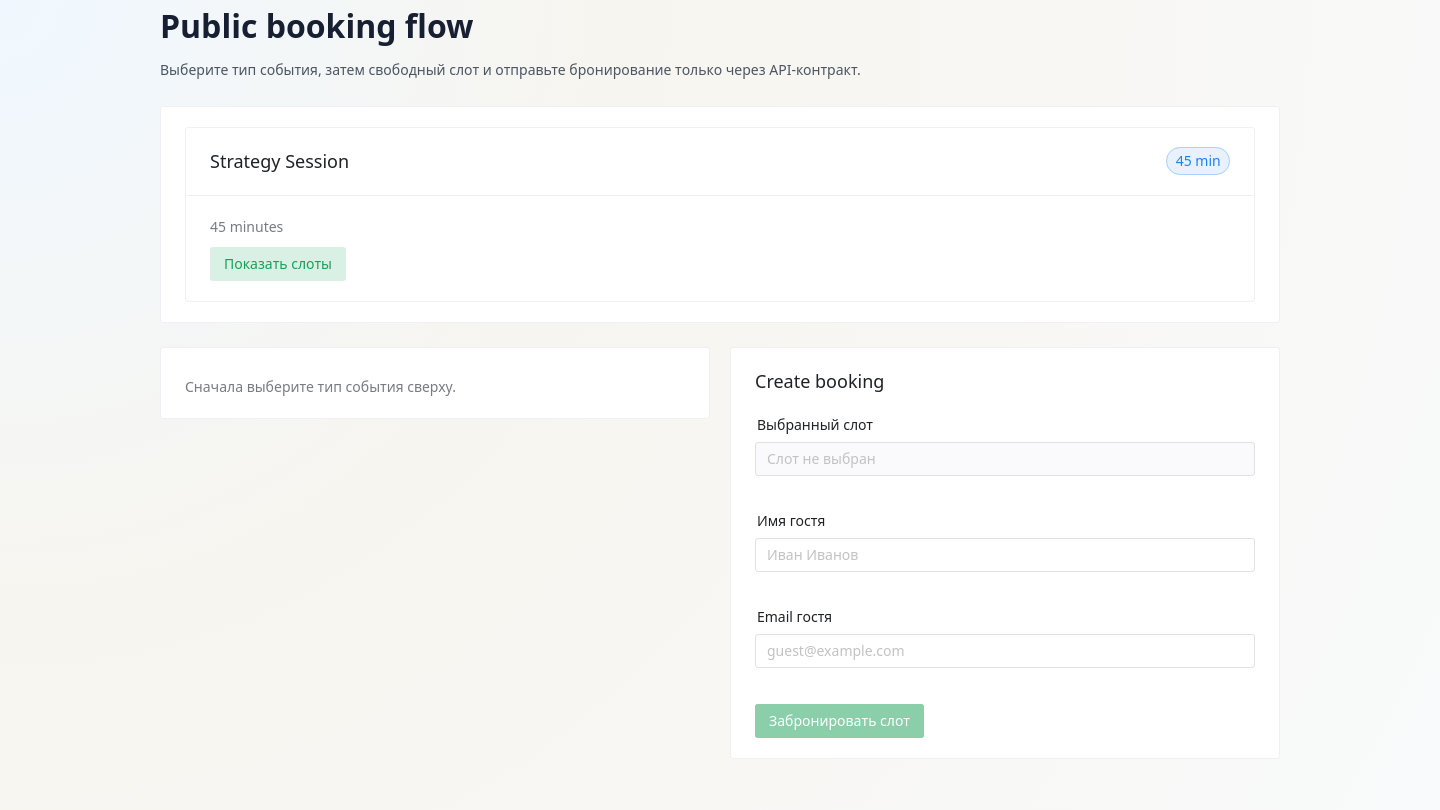
Test case: BookingPage › renders event types and completes happy path booking flow
Click the button "Показать слоты" at (278, 264), box 210,247 -> 346,281
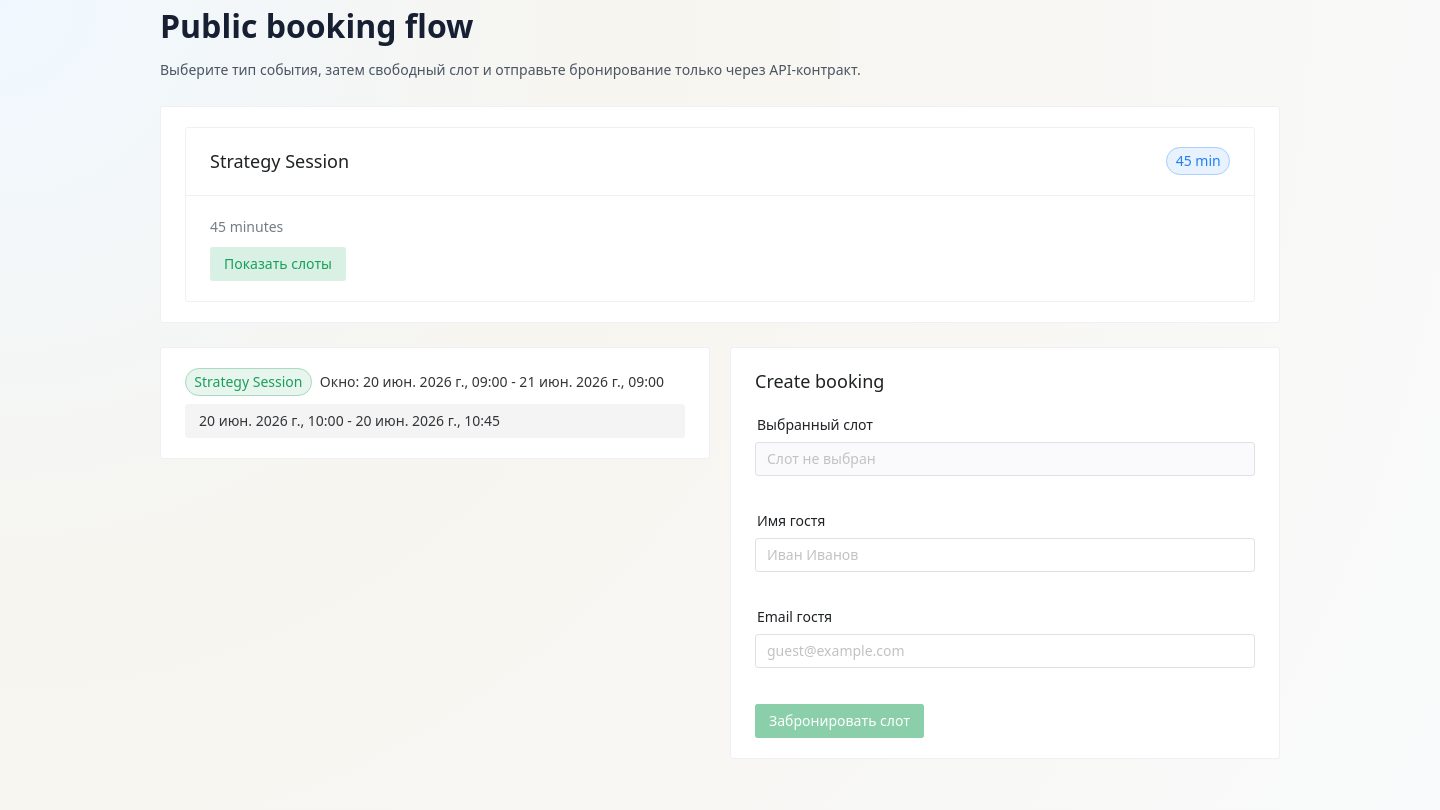
Expected: the button "20 июн. 2026 г., 10:00 - 20 июн. 2026 г., 10:45" is shown
Click the button "20 июн. 2026 г., 10:00 - 20 июн. 2026 г., 10:45" at (435, 421), box 185,404 -> 685,438
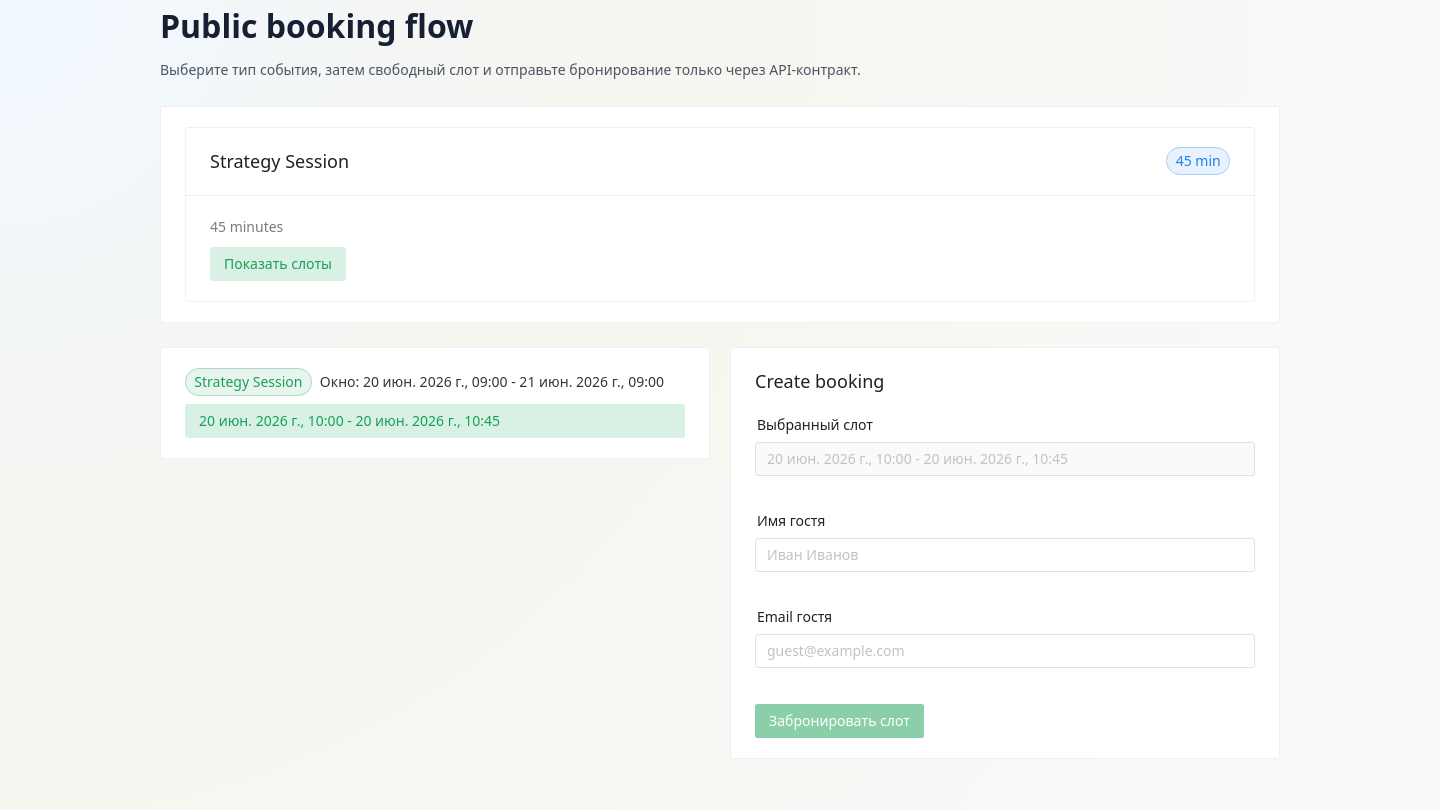
Type "Иван" into the field with placeholder "Иван Иванов" at (1005, 555), box 767,538 -> 1243,572
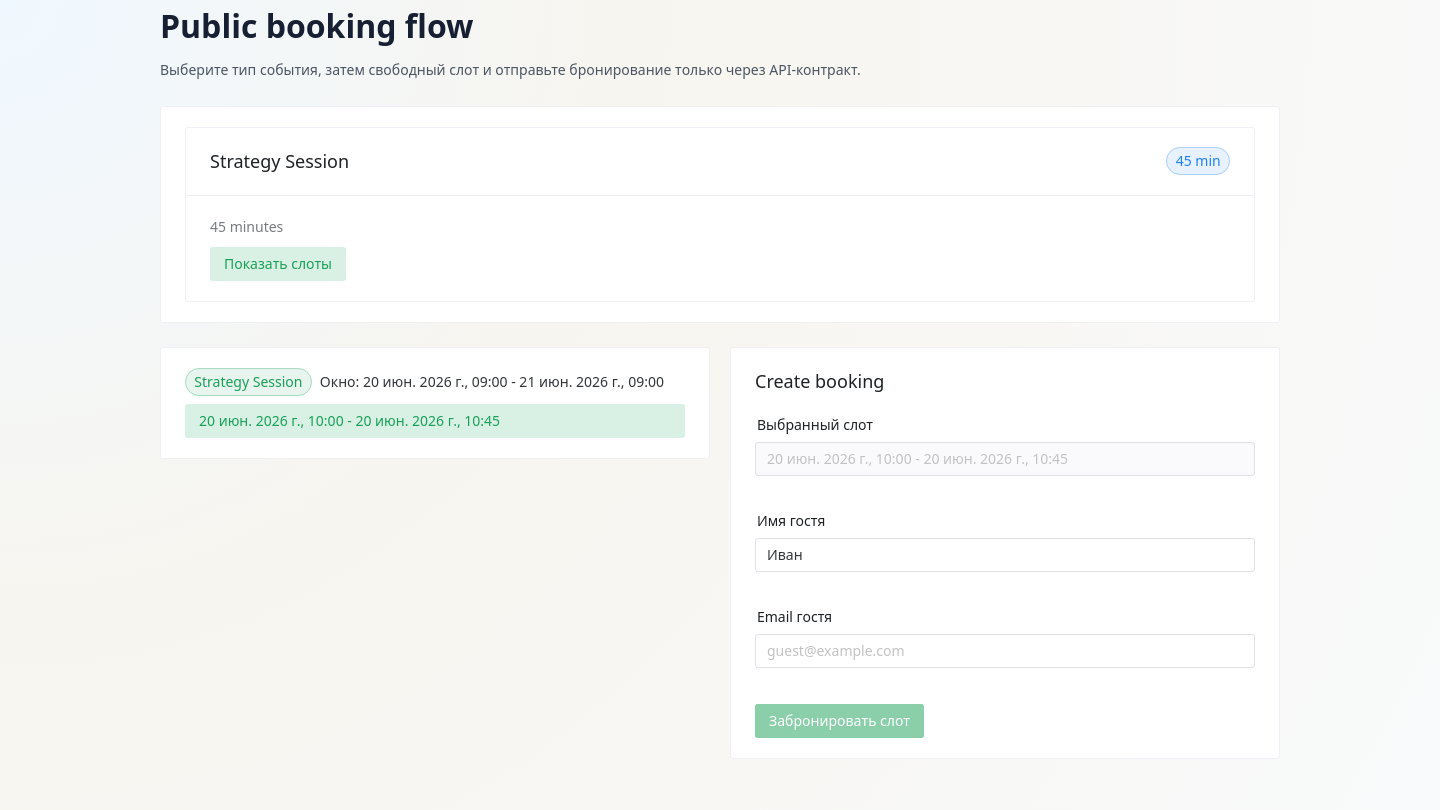
Type "ivan@example.com" into the field with placeholder "guest@example.com" at (1005, 651), box 767,634 -> 1243,668
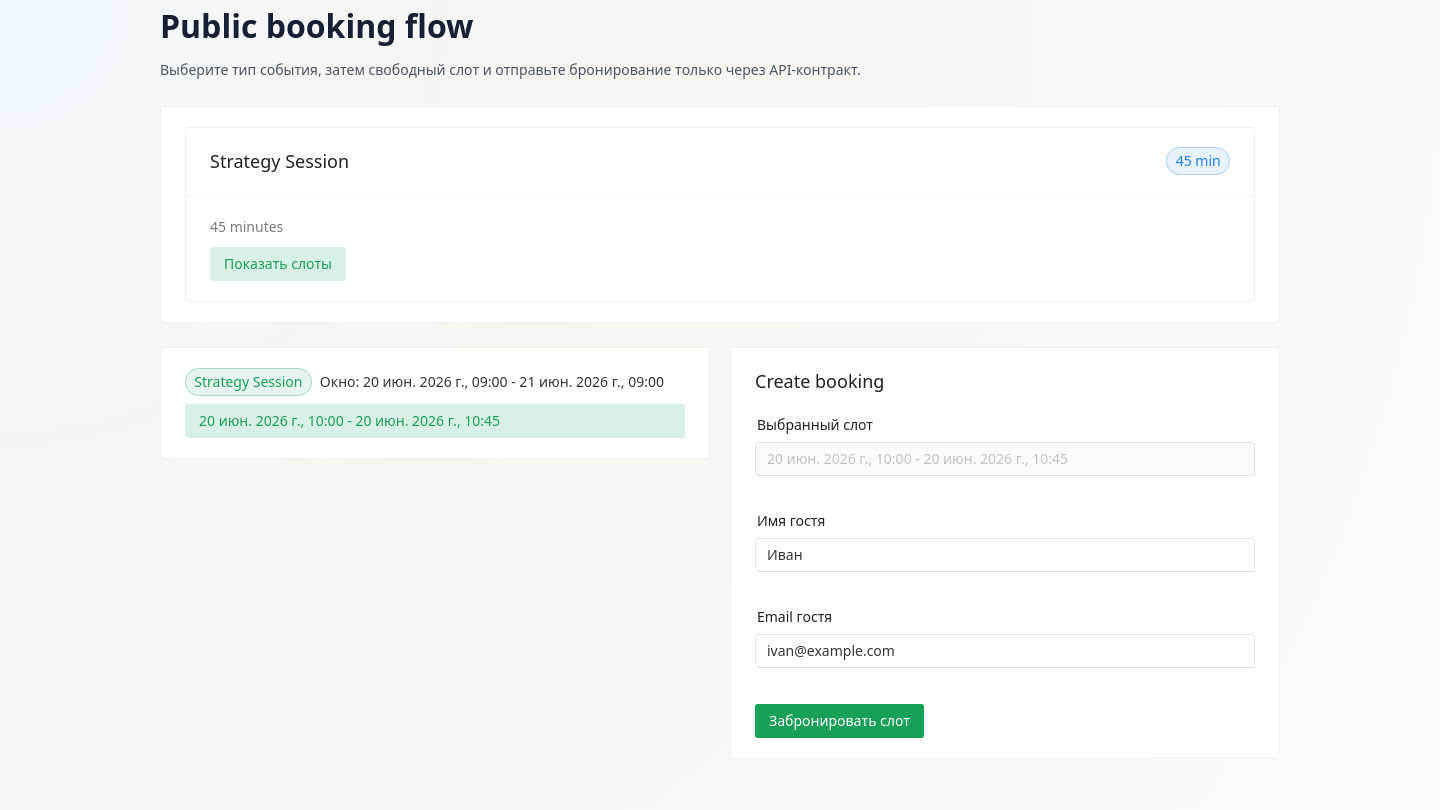
Submit the form, box 755,416 -> 1255,738
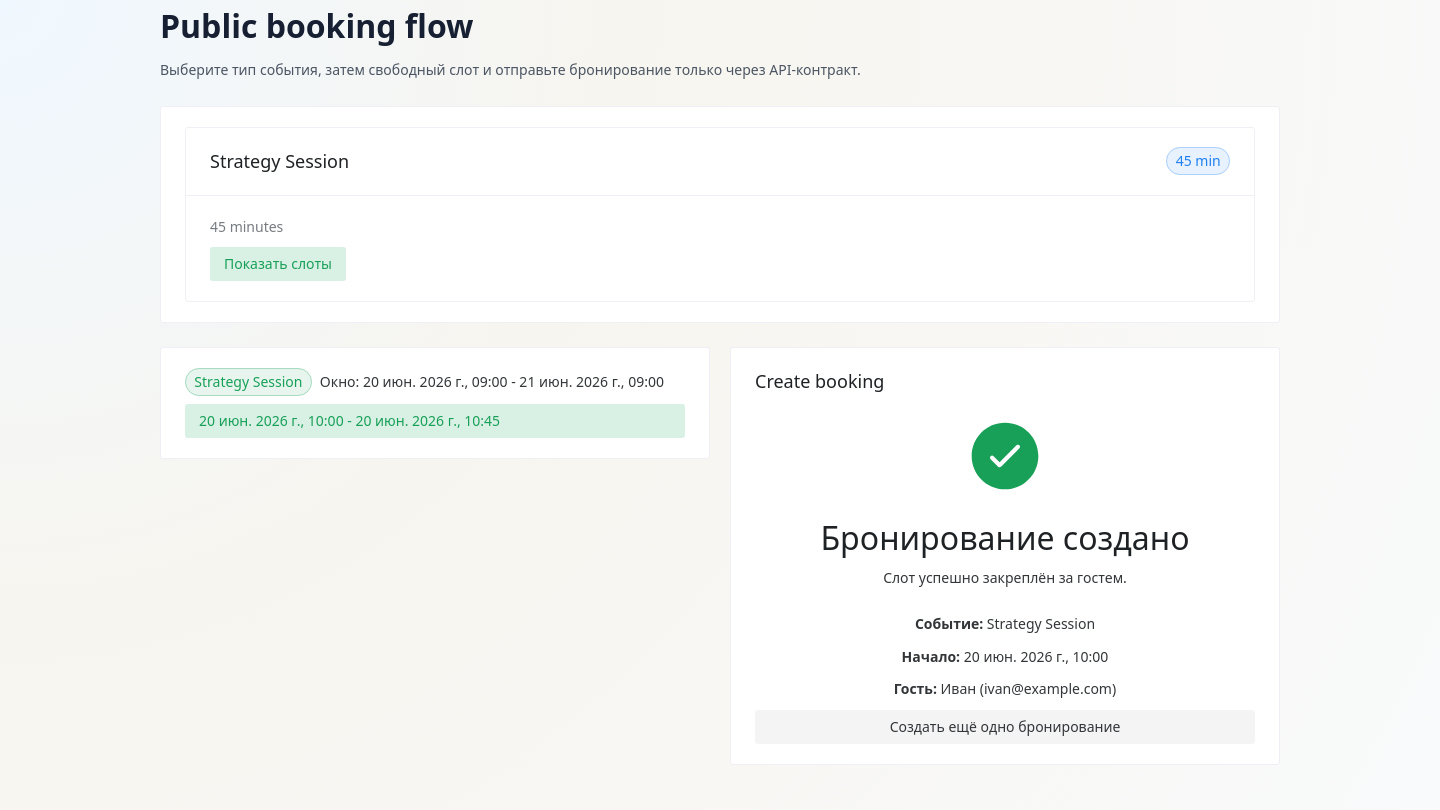
Expected: the text "Бронирование создано" is shown, 820,516 -> 1190,559
